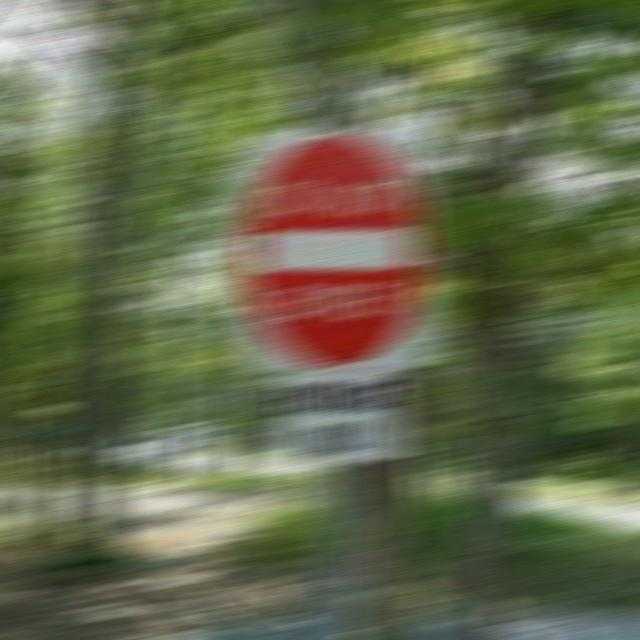doNotEnter: (239, 134, 432, 368)
